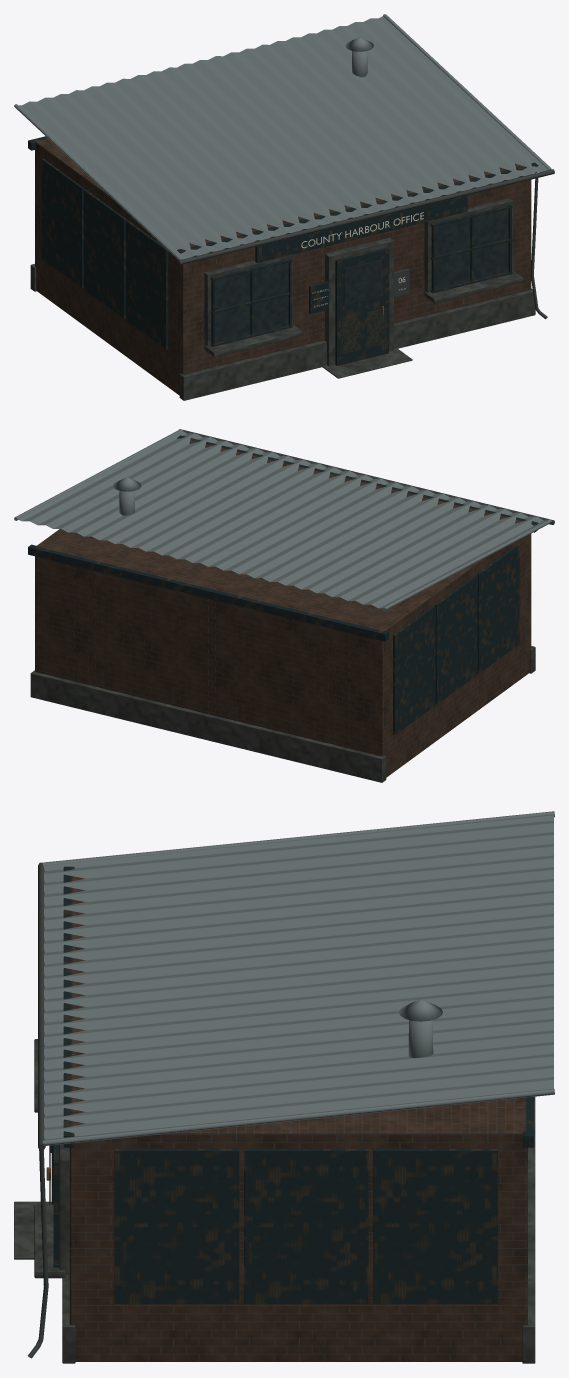
The model's file is harbour-office.glb.
3 renders of one model, top to bottom at view 1: azimuth 30°, elevation 25°; view 2: azimuth 150°, elevation 25°; view 3: azimuth 270°, elevation 25°, orthographic. The views are drawn at different scales.
Parts seen in each view (by area): view 1: Authored roof, Authored Faded harbour paint, Authored Harbour damp brickwork, Authored Salt stained quay stone, Authored Rain smeared office glass, Authored iron, Authored Salt worn timber grain, Authored paper; view 2: Authored Harbour damp brickwork, Authored roof, Authored Faded harbour paint, Authored Salt stained quay stone, Authored iron; view 3: Authored roof, Authored Faded harbour paint, Authored Harbour damp brickwork, Authored Salt stained quay stone, Authored iron.
Part boxes in pixels (x1,y1,x2,y2): Authored roof: (14, 14, 551, 260); Authored Faded harbour paint: (28, 136, 538, 365); Authored Harbour damp brickwork: (35, 138, 531, 395); Authored Salt stained quay stone: (30, 198, 535, 400); Authored Rain smeared office glass: (215, 209, 508, 343); Authored iron: (178, 169, 554, 319); Authored Salt worn timber grain: (341, 308, 386, 354); Authored paper: (301, 212, 423, 307); Authored Harbour damp brickwork: (35, 440, 531, 777); Authored roof: (14, 429, 551, 610); Authored Faded harbour paint: (28, 435, 538, 735); Authored Salt stained quay stone: (30, 646, 535, 782); Authored iron: (179, 429, 554, 524); Authored roof: (43, 811, 554, 1145); Authored Faded harbour paint: (51, 866, 534, 1304); Authored Harbour damp brickwork: (69, 876, 527, 1361); Authored Salt stained quay stone: (14, 1039, 535, 1363); Authored iron: (28, 862, 48, 1358).
Size of the model in its own units: 9.02 by 4.76 by 7.32.
9 materials, 5 textured.
